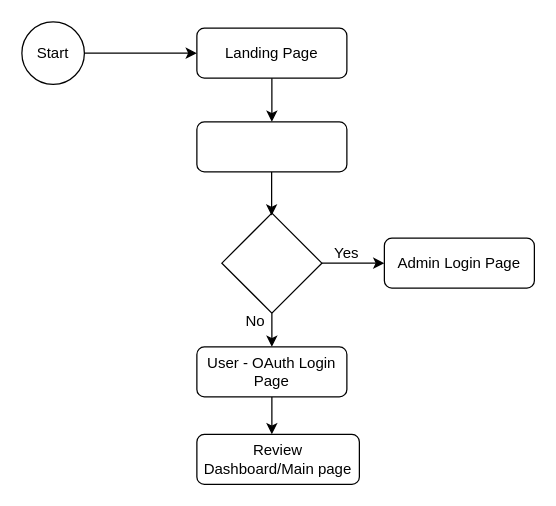
Image size: 556x506. Some labels were removed from this diagram. The shapes that lost their labels are listed below. From the top down, each one's box as (x1, y1, x2, y2) in pixels, then its label:
(196, 121, 347, 172): Login Page
(221, 212, 322, 313): is Admin
